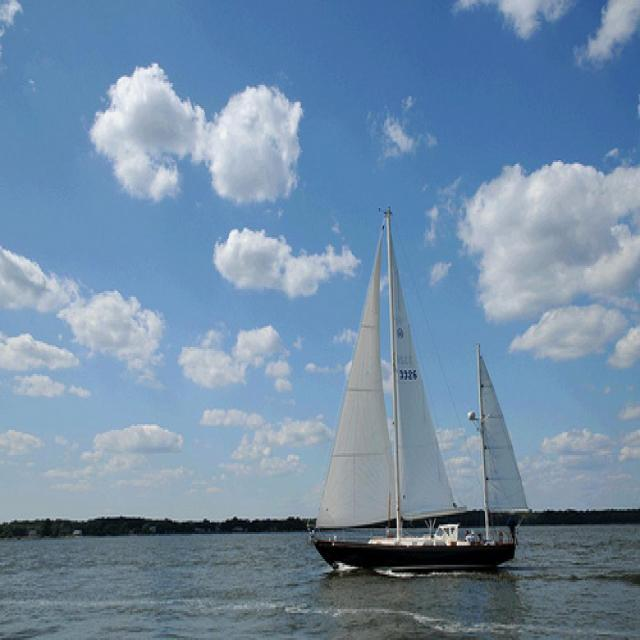Ship: (309, 205, 526, 582)
